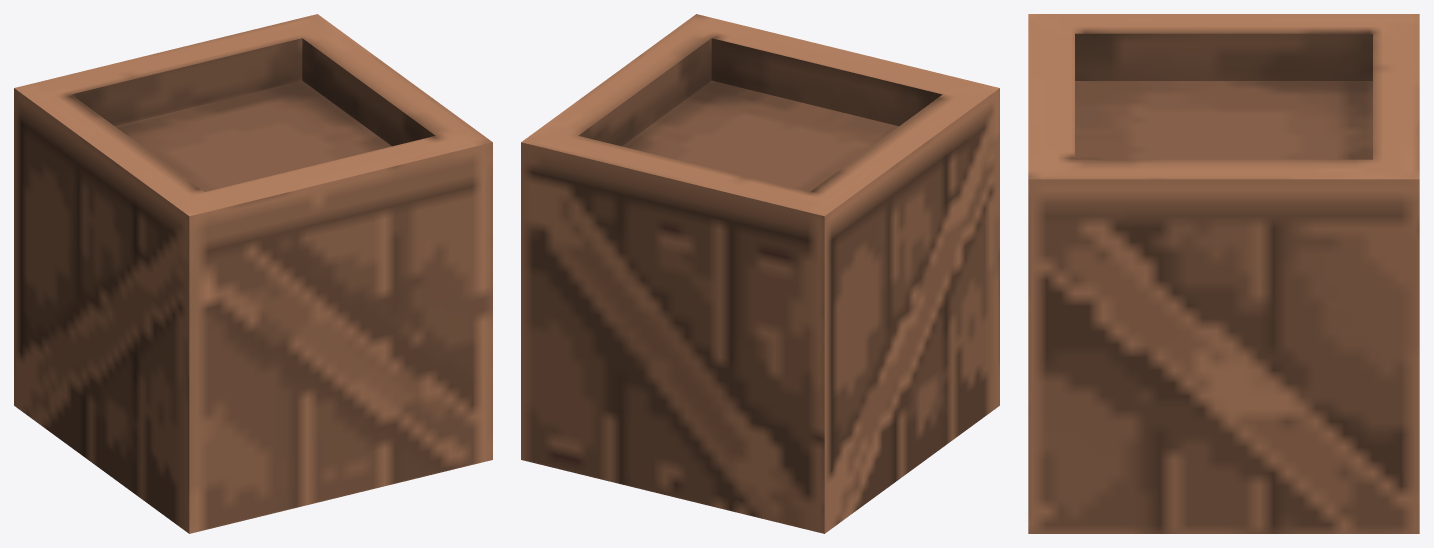
The picture shows the model from 3 angles, left to right: view 1: azimuth 30°, elevation 25°; view 2: azimuth 150°, elevation 25°; view 3: azimuth 270°, elevation 25°; orthographic projection. The views are drawn at different scales.
Parts seen in each view (by area): view 1: Box037; view 2: Box037; view 3: Box037.
Part boxes in pixels (left/top/right/bottom): Box037: left=14, top=14, right=492, bottom=533; Box037: left=521, top=14, right=999, bottom=533; Box037: left=1028, top=14, right=1419, bottom=533.
Bounding box in the file's own units: 13.02 × 13.02 × 13.02.
